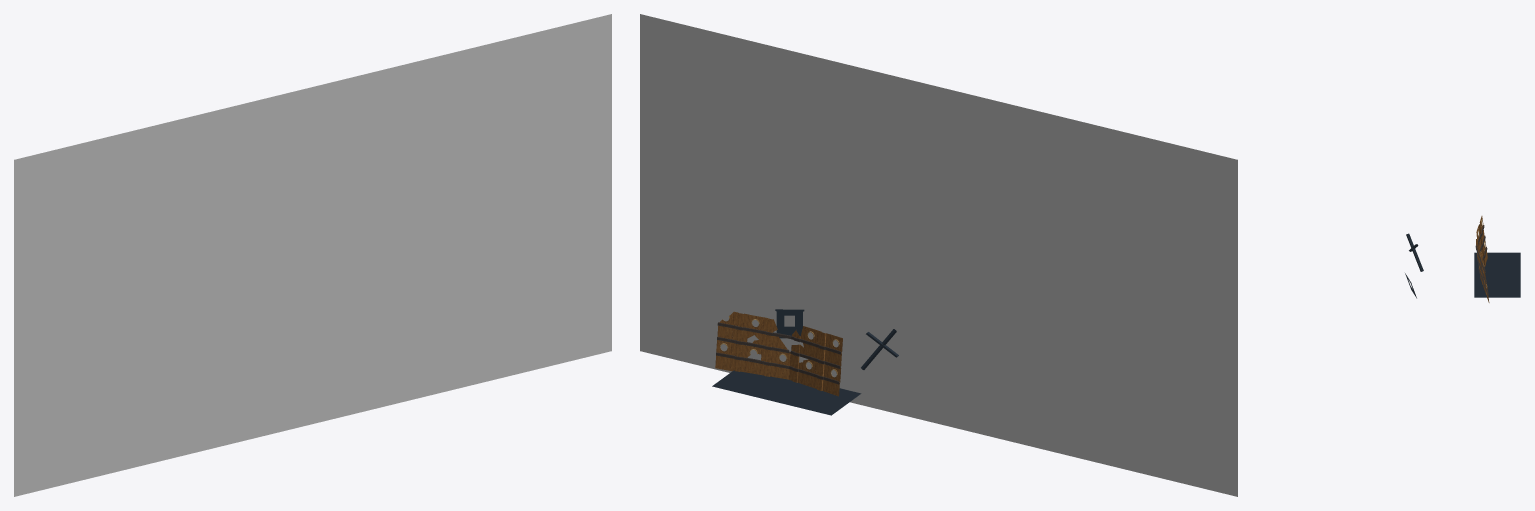
The model's file is background_02.fbx.
3 renders of one model, left to right at view 1: azimuth 30°, elevation 25°; view 2: azimuth 150°, elevation 25°; view 3: azimuth 270°, elevation 25°, orthographic. The views are drawn at different scales.
Parts seen in each view (by area): view 1: Scene2; view 2: Scene2; view 3: Scene2.
Boxes of the visible parts, box(x1,y1,x2,y2) form: Scene2: box(14, 14, 611, 496); Scene2: box(640, 14, 1237, 496); Scene2: box(1405, 216, 1520, 302).
Bounding box in the file's own units: 12495 × 6735 × 5994.
